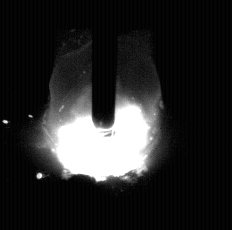arame: (92, 0, 117, 129)
poca: (42, 0, 162, 230)
